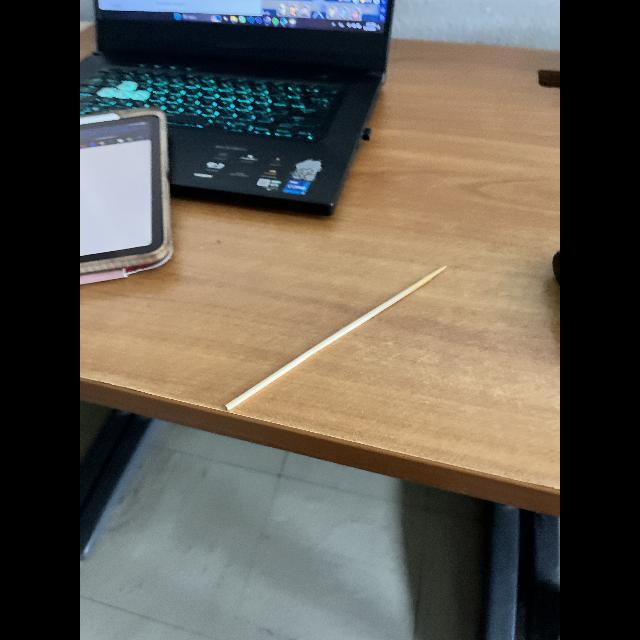stick: (206, 256, 464, 430)
